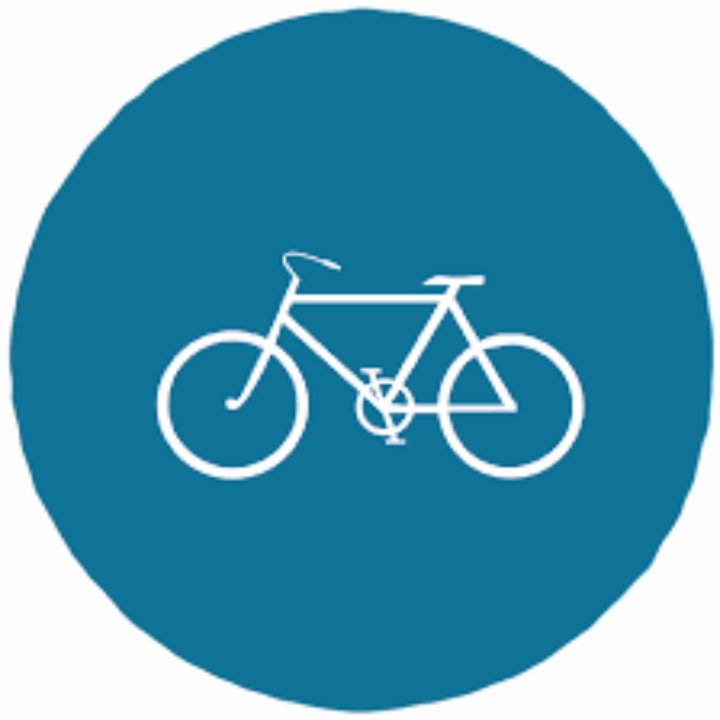bicycle: (143, 145, 593, 595)
